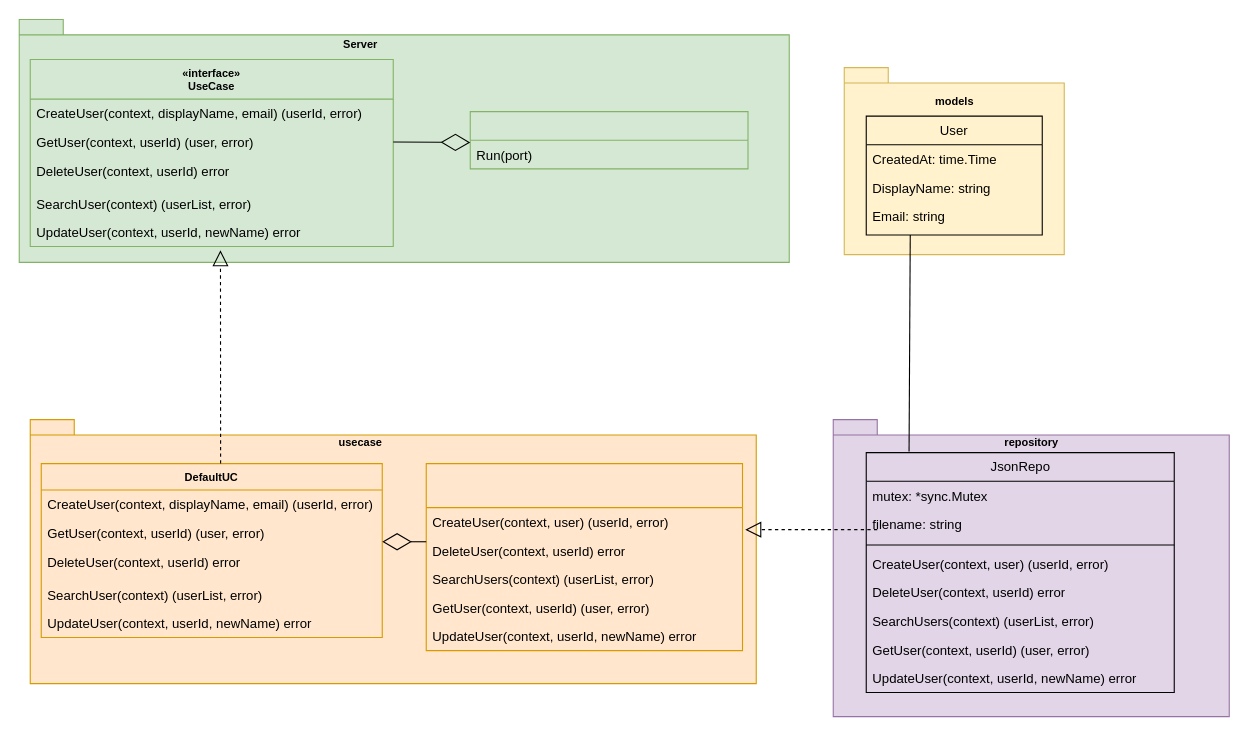
Image size: 1249x736. Some labels were removed from this diagram. The shapes that lost their labels are listed below. From the top down, each one's box as (x1, y1, x2, y2) in pixels, then its label:
(469, 111, 748, 169): App
(425, 463, 743, 651): «interface» Repo
